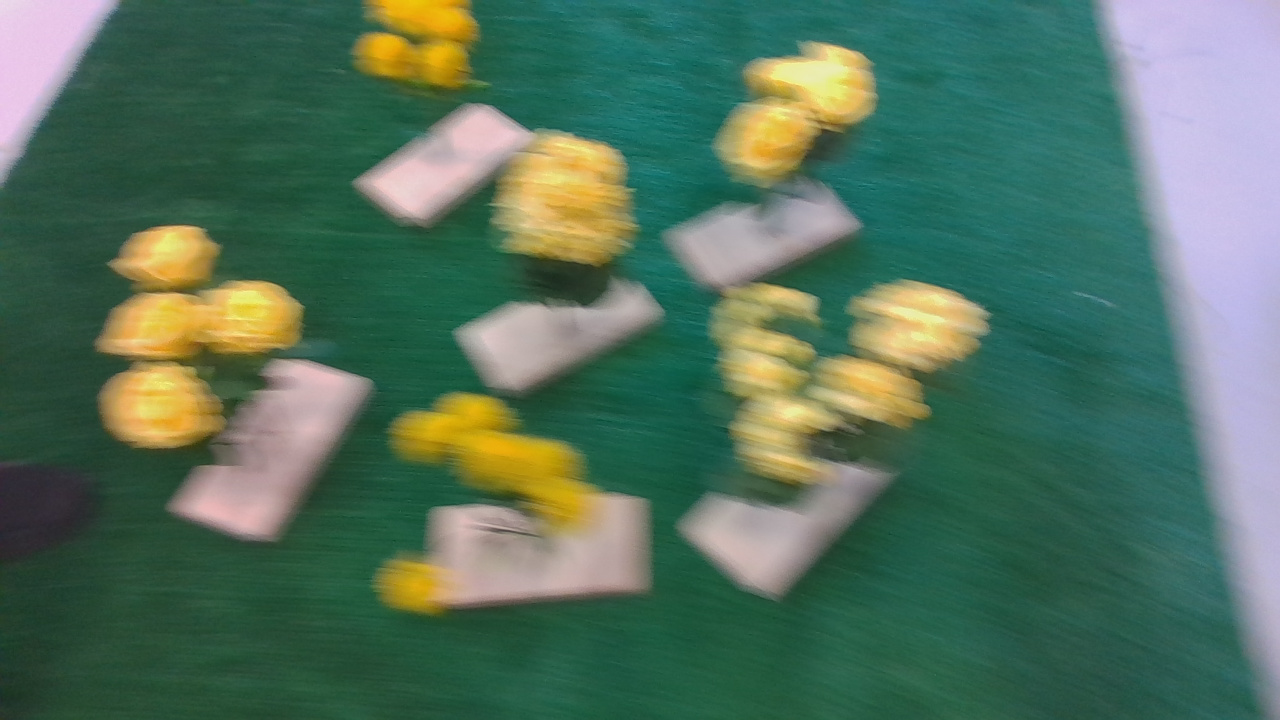dandelion: (380, 397, 622, 625)
geranium: (703, 283, 1005, 514), (495, 127, 641, 314)
rose: (78, 221, 317, 457), (704, 37, 895, 218)
